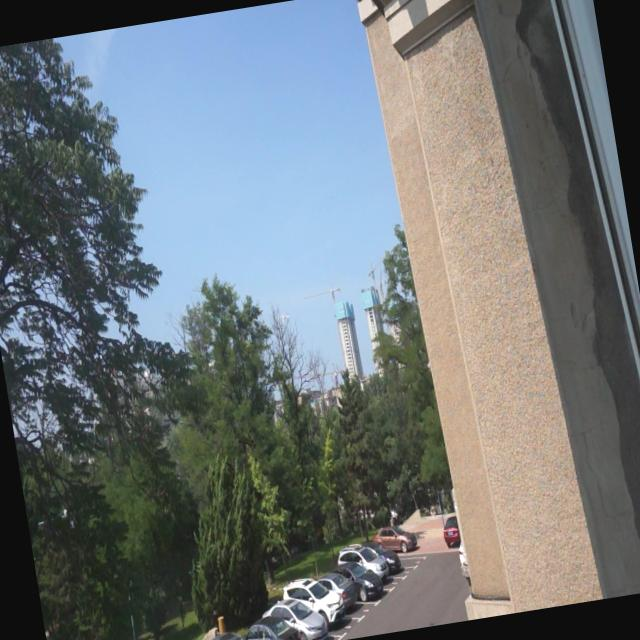drone: (276, 308, 292, 326)
